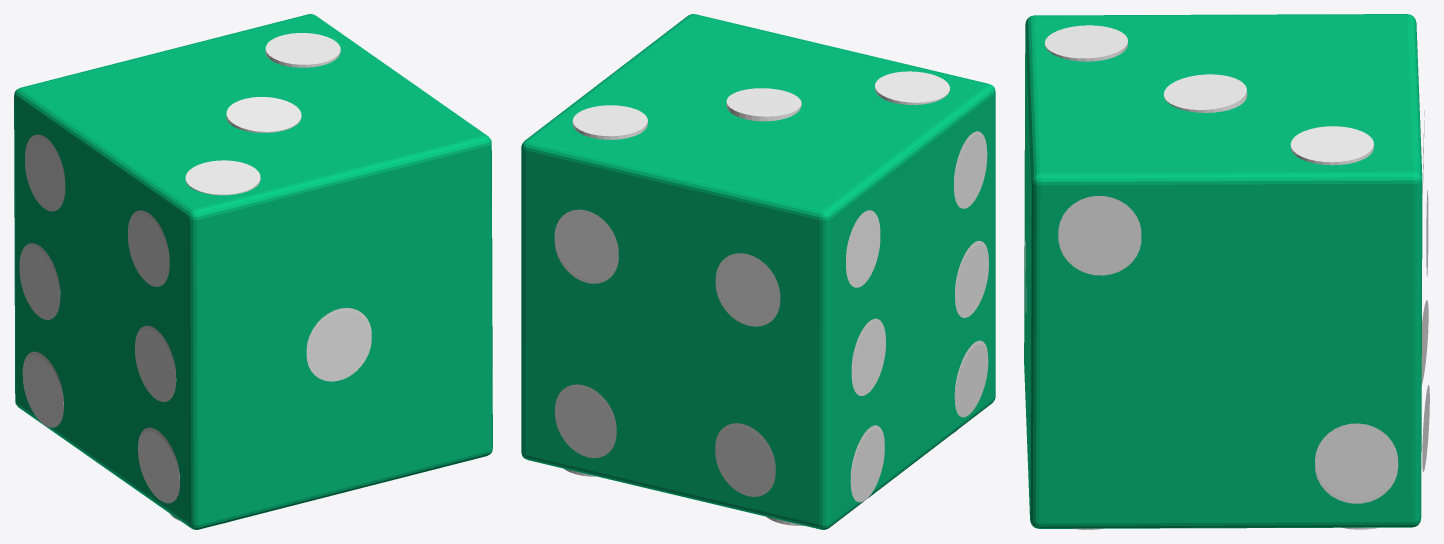
The picture shows the model from 3 angles, left to right: view 1: azimuth 30°, elevation 25°; view 2: azimuth 150°, elevation 25°; view 3: azimuth 270°, elevation 25°; orthographic projection. The views are drawn at different scales.
Parts seen in each view (by area): view 1: Cube; view 2: Cube; view 3: Cube.
Part boxes in pixels (box(x1,y1,x2,y2)): Cube: box(14, 14, 492, 529); Cube: box(521, 14, 995, 529); Cube: box(1024, 14, 1429, 529).
Size of the model in its own units: 2.12 by 2.09 by 2.07.
